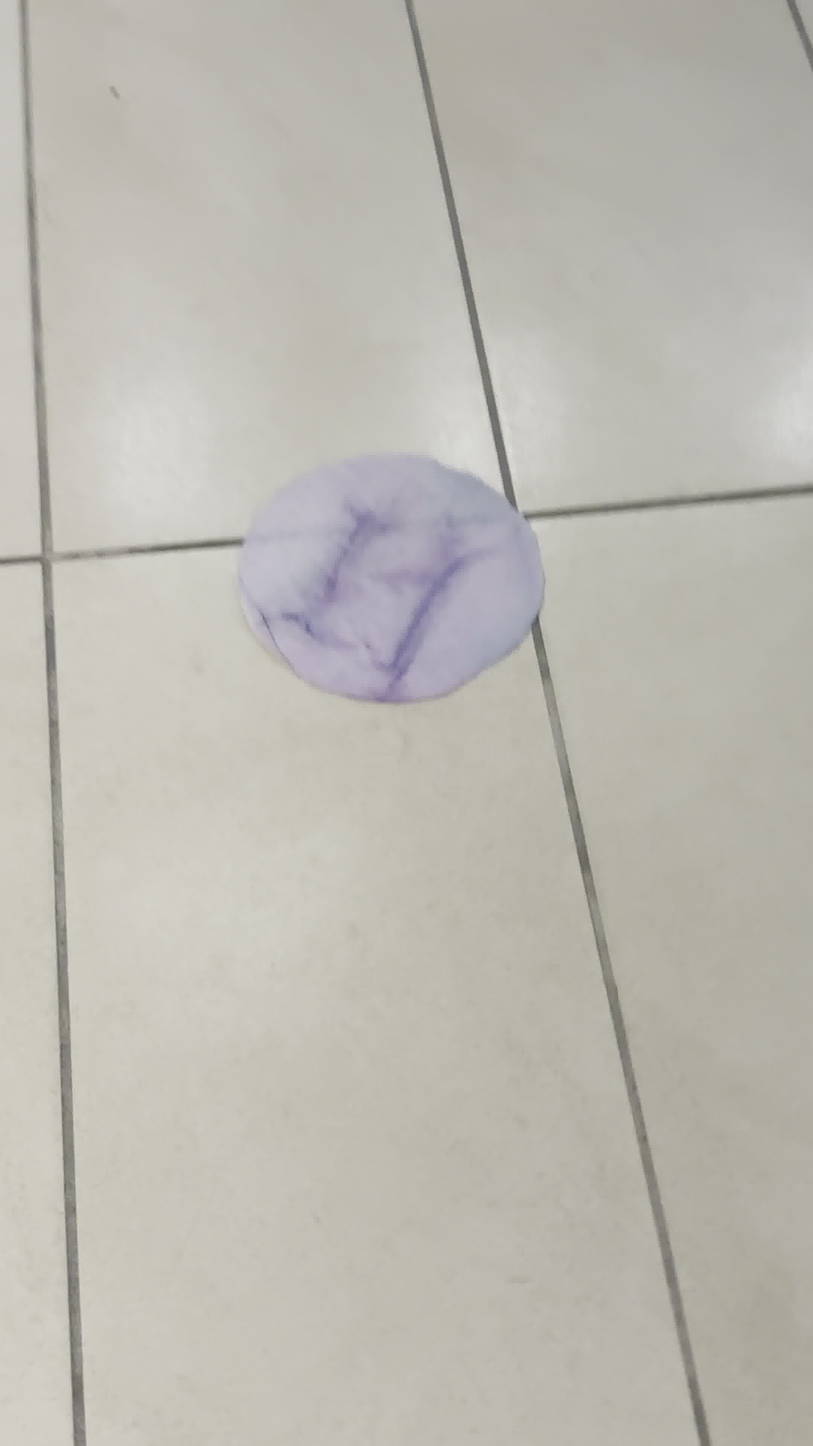Target: (234, 449, 545, 707)
